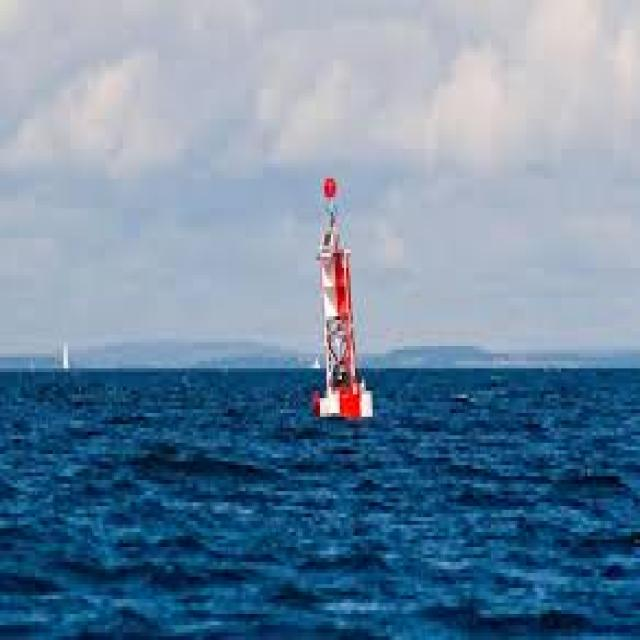2.4 safe water mark: (304, 155, 378, 434)
